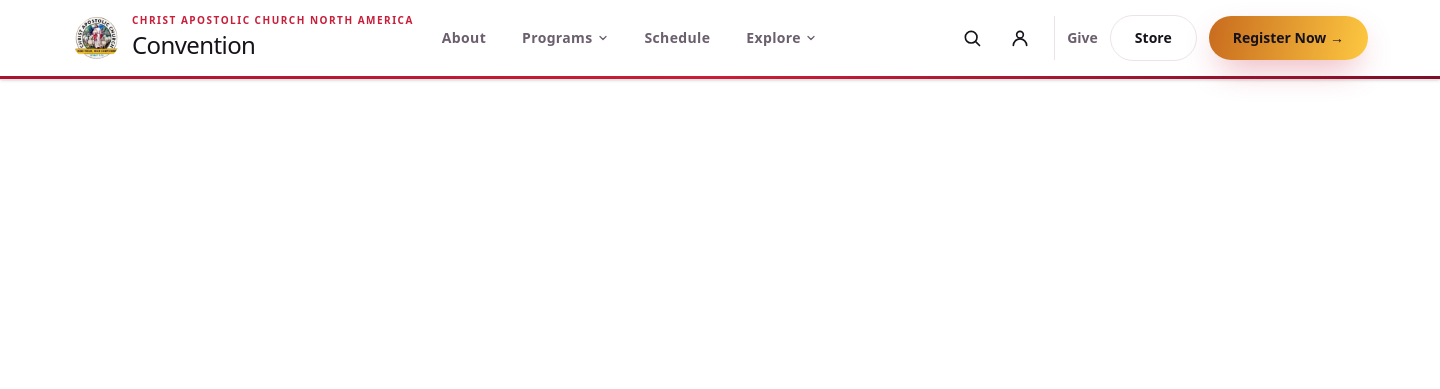
Test: PrimaryNav › Programs dropdown (desktop) › is closed by default and opens to reveal all 7 department pages
The width and height of the screenshot is (1440, 389).
Click the button "Programs".
click(565, 38)  # box top-left (518, 22), bottom-right (612, 54)
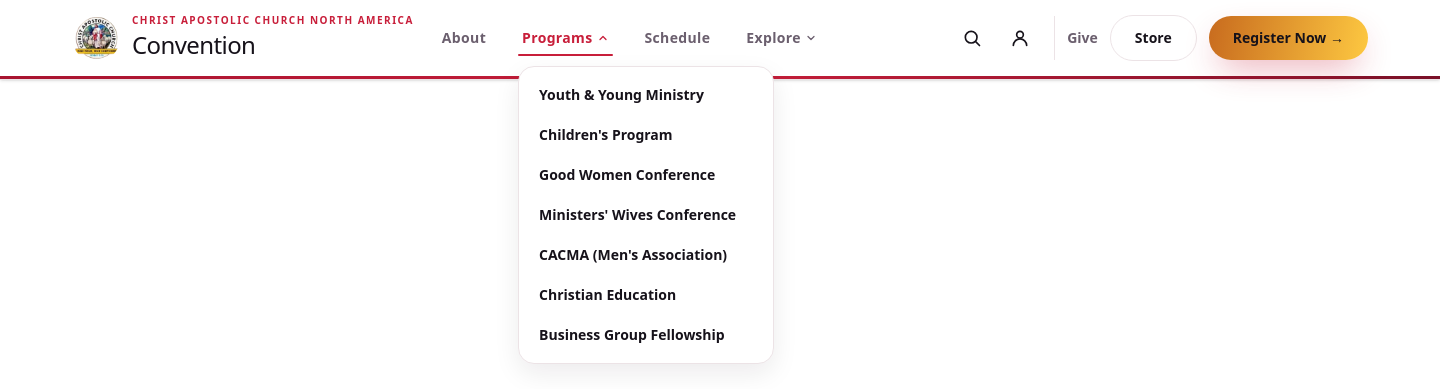
Result: the button "Programs" is expanded at top-left (518, 22), bottom-right (612, 54)
Result: the link "Youth & Young Ministry" is shown at top-left (539, 85), bottom-right (704, 104)
Result: the link "Children's Program" is shown at top-left (539, 125), bottom-right (673, 144)
